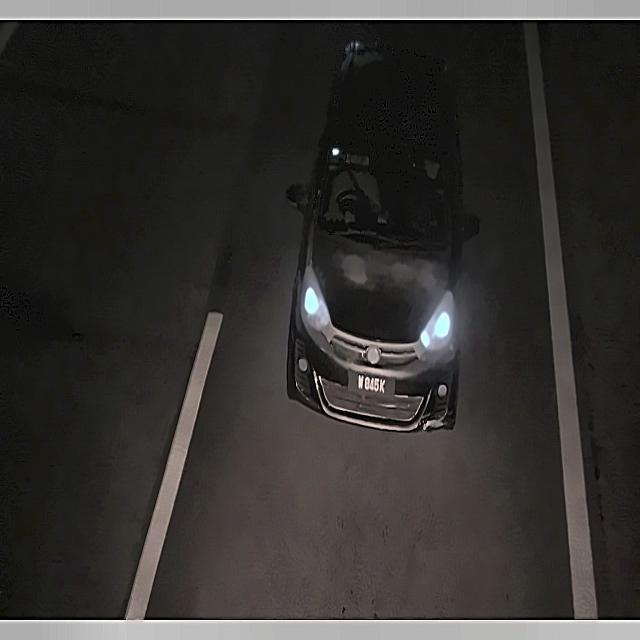car: (345, 364, 402, 402)
